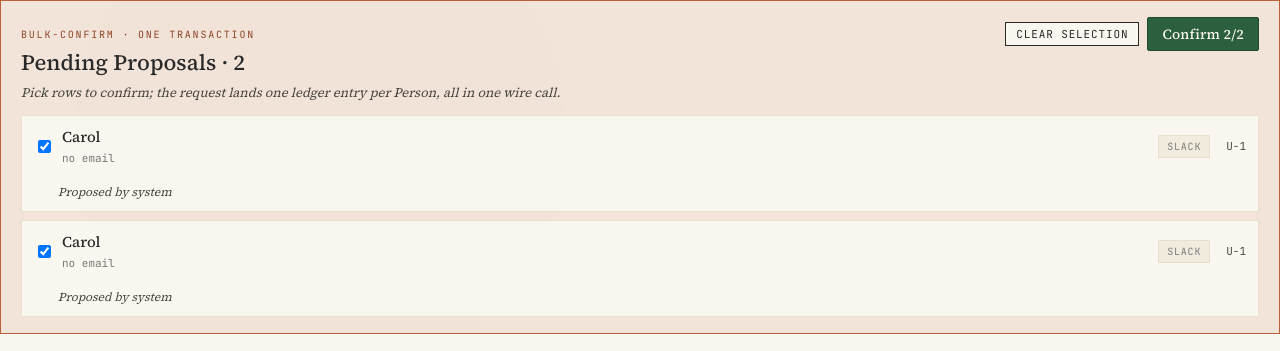
Test: BulkConfirmDrawer › Select-all toggles between all and none
The width and height of the screenshot is (1280, 351).
Click the button with test id "bulk-confirm-toggle-all": {"x": 1072, "y": 34} x1=1005 y1=22 x2=1140 y2=46
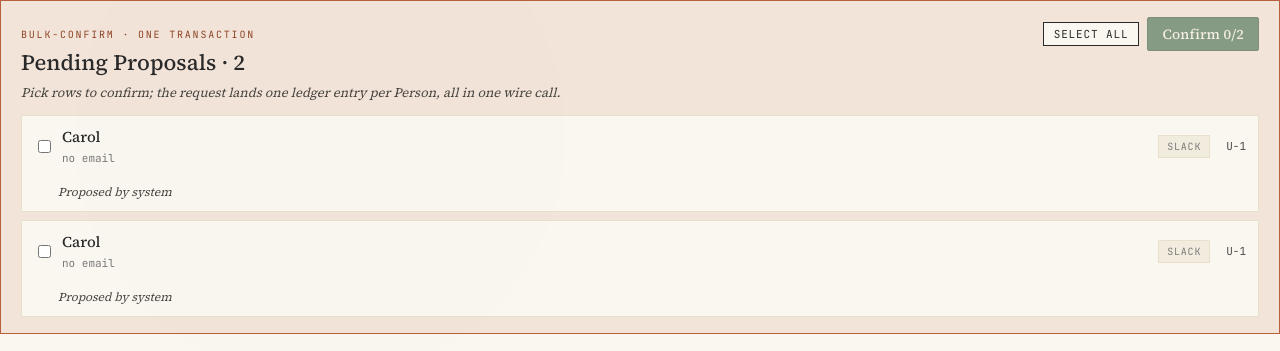
Result: the checkbox with test id "bulk-confirm-check-p1" is not checked at x1=38 y1=140 x2=51 y2=152
Result: the checkbox with test id "bulk-confirm-check-p2" is not checked at x1=38 y1=244 x2=51 y2=258
Result: the button with test id "bulk-confirm-submit" is disabled at x1=1148 y1=17 x2=1259 y2=51
Click the button with test id "bulk-confirm-toggle-all": {"x": 1091, "y": 34} x1=1043 y1=22 x2=1140 y2=46
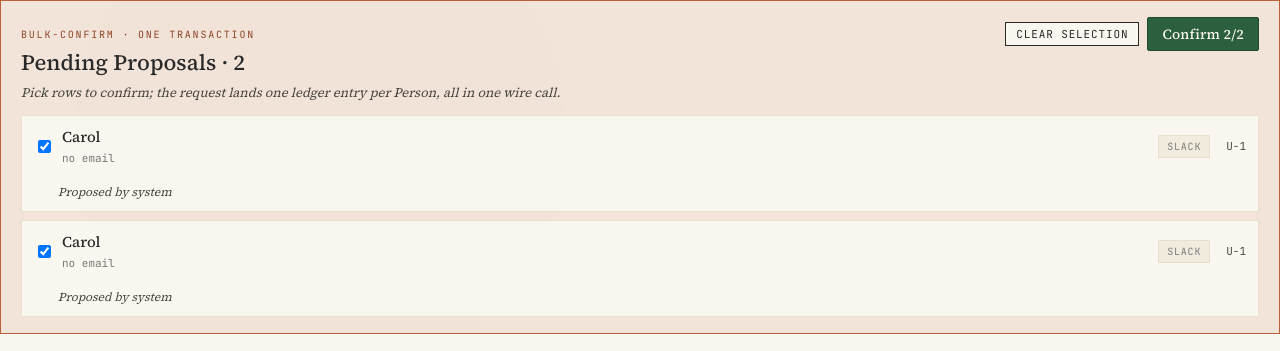
Result: the checkbox with test id "bulk-confirm-check-p1" is checked at x1=38 y1=140 x2=51 y2=152
Result: the checkbox with test id "bulk-confirm-check-p2" is checked at x1=38 y1=244 x2=51 y2=258
